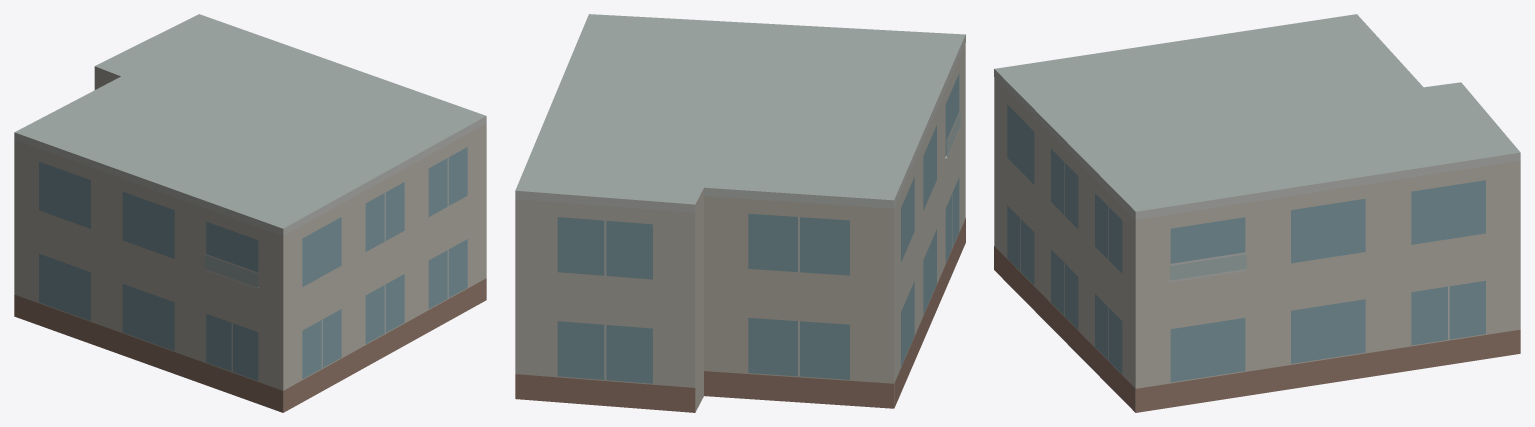
File: survey-upis-32835902.glb
3 views of the same model, side by side, from view 1: azimuth 30°, elevation 25°; view 2: azimuth 150°, elevation 25°; view 3: azimuth 270°, elevation 25° (orthographic). The views are drawn at different scales.
Visible parts, largest first — view 1: survey-upis-32835902.tmp; view 2: survey-upis-32835902.tmp; view 3: survey-upis-32835902.tmp.
Boxes of the visible parts, x1,y1,x2,y2 form: survey-upis-32835902.tmp: (14, 14, 486, 412); survey-upis-32835902.tmp: (515, 14, 965, 412); survey-upis-32835902.tmp: (994, 14, 1520, 412).
Size of the model in its own units: 12.87 by 6.1 by 14.48.
